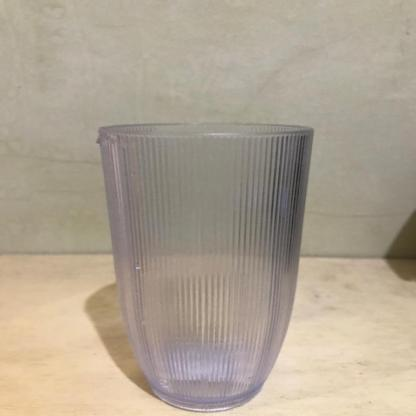glass: (100, 119, 308, 412)
